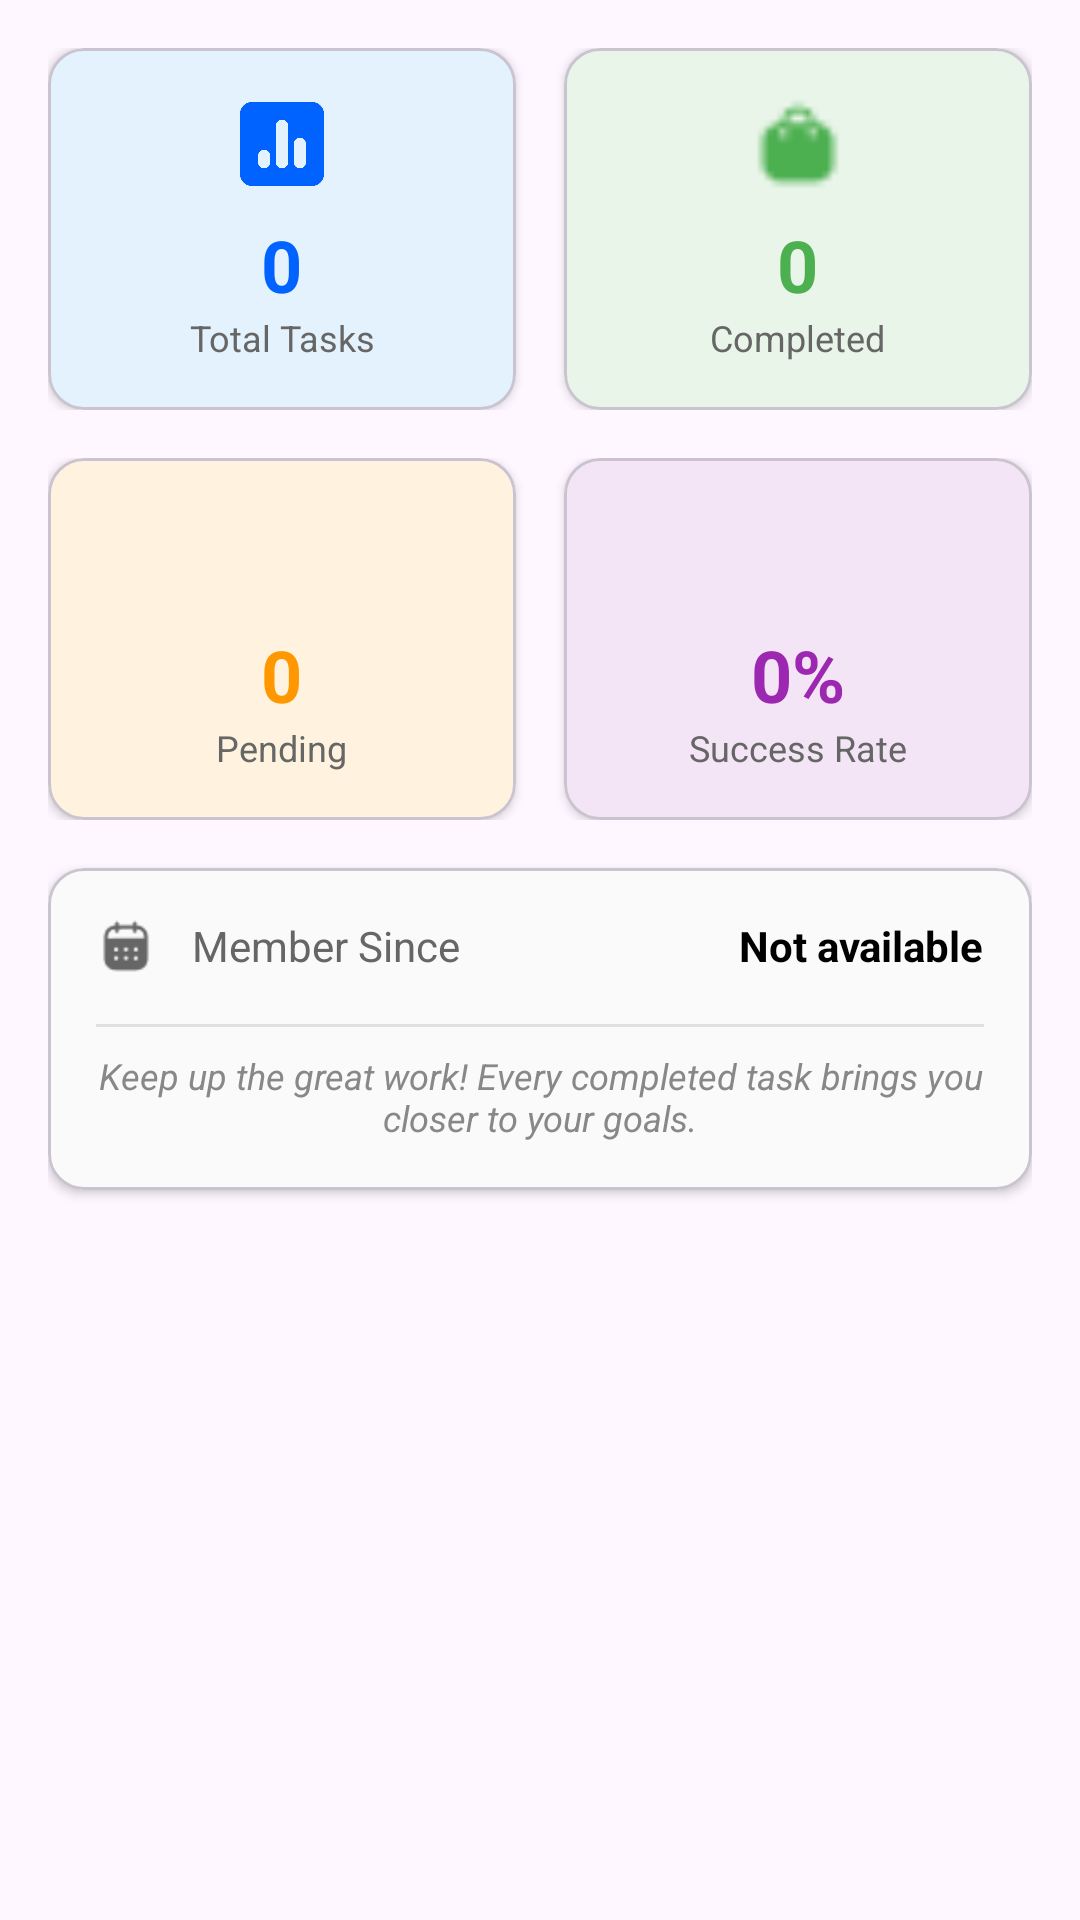

Icons on this 1080px×1920px Android screen, each with its box as [x1, y1, x2, y2]:
calendar: [103, 921, 149, 972]
chart: [240, 102, 324, 186]
